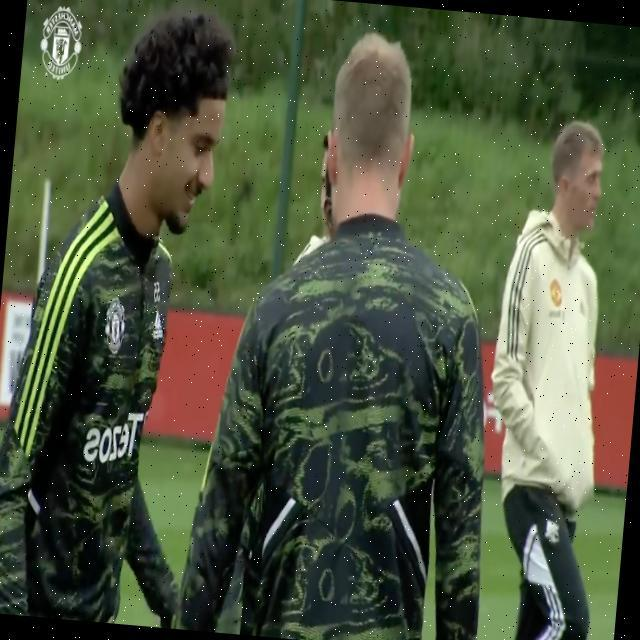Adidas: (150, 306, 166, 344), (543, 514, 560, 542)
